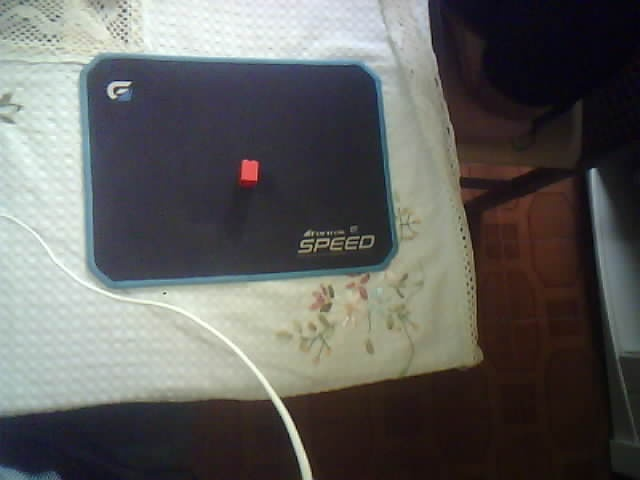lego: (238, 159, 260, 187)
